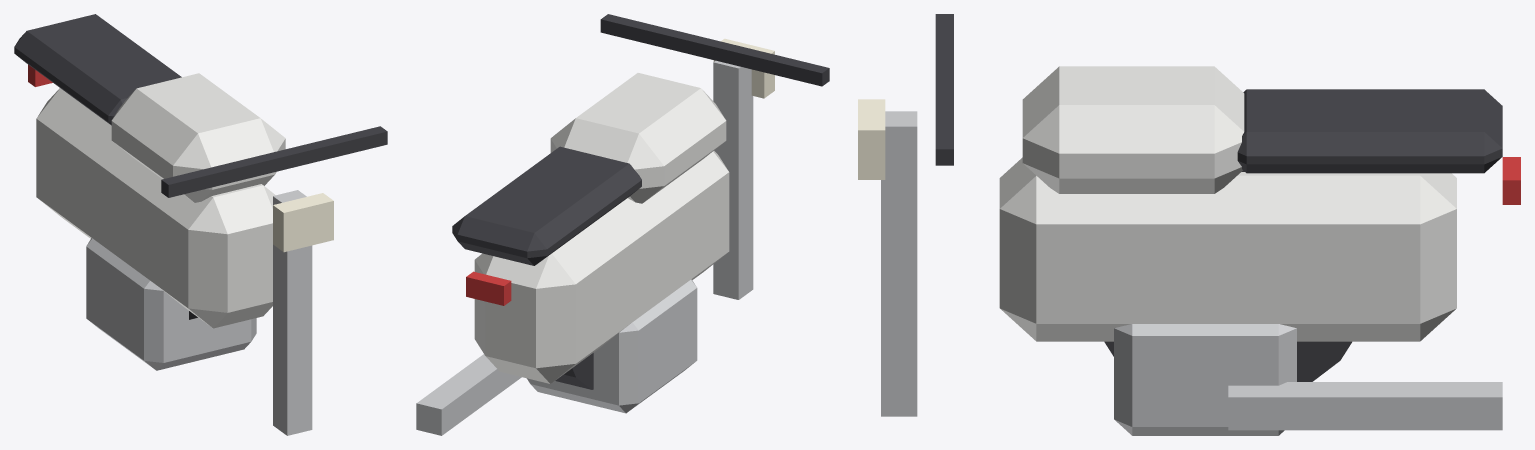
File: motorbike.glb
3 renders of one model, left to right at view 1: azimuth 30°, elevation 25°; view 2: azimuth 150°, elevation 25°; view 3: azimuth 270°, elevation 25°, orthographic. The views are drawn at different scales.
Parts seen in each view (by area): view 1: body, tank, engine, seat, fork, handlebar, headlamp; view 2: body, seat, tank, engine, fork, handlebar, exhaust, taillamp, headlamp, wheel; view 3: body, tank, seat, engine, exhaust, fork, handlebar, headlamp, wheel, taillamp.
Part boxes in pixels (left/top/right/bottom): body: left=36, top=88, right=275, bottom=328; tank: left=111, top=73, right=285, bottom=202; engine: left=86, top=238, right=256, bottom=370; seat: left=14, top=14, right=181, bottom=125; fork: left=273, top=190, right=312, bottom=435; handlebar: left=161, top=126, right=387, bottom=197; headlamp: left=273, top=193, right=333, bottom=252; body: left=474, top=151, right=729, bottom=383; seat: left=452, top=146, right=641, bottom=265; tank: left=550, top=73, right=726, bottom=203; engine: left=527, top=279, right=697, bottom=413; fork: left=713, top=60, right=753, bottom=299; handlebar: left=600, top=14, right=829, bottom=86; exhaust: left=416, top=354, right=521, bottom=435; taillamp: left=466, top=271, right=511, bottom=305; headlamp: left=713, top=38, right=774, bottom=98; wheel: left=555, top=353, right=593, bottom=389; body: left=999, top=157, right=1456, bottom=341; tank: left=1022, top=66, right=1244, bottom=193; seat: left=1237, top=89, right=1502, bottom=173; engine: left=1114, top=324, right=1296, bottom=435; exhaust: left=1228, top=382, right=1502, bottom=430; fork: left=881, top=111, right=917, bottom=416; handlebar: left=935, top=14, right=953, bottom=165; headlamp: left=858, top=99, right=885, bottom=179; wheel: left=1104, top=170, right=1351, bottom=381; taillamp: left=1502, top=157, right=1520, bottom=204.
Bounding box in the file's own units: 0.7 × 0.79 × 1.45.
